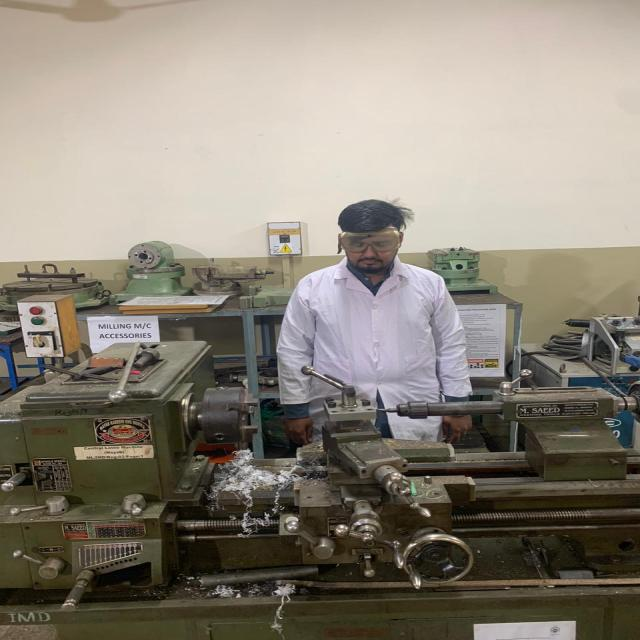googles: (334, 225, 404, 254)
labcoat: (274, 253, 472, 444)
